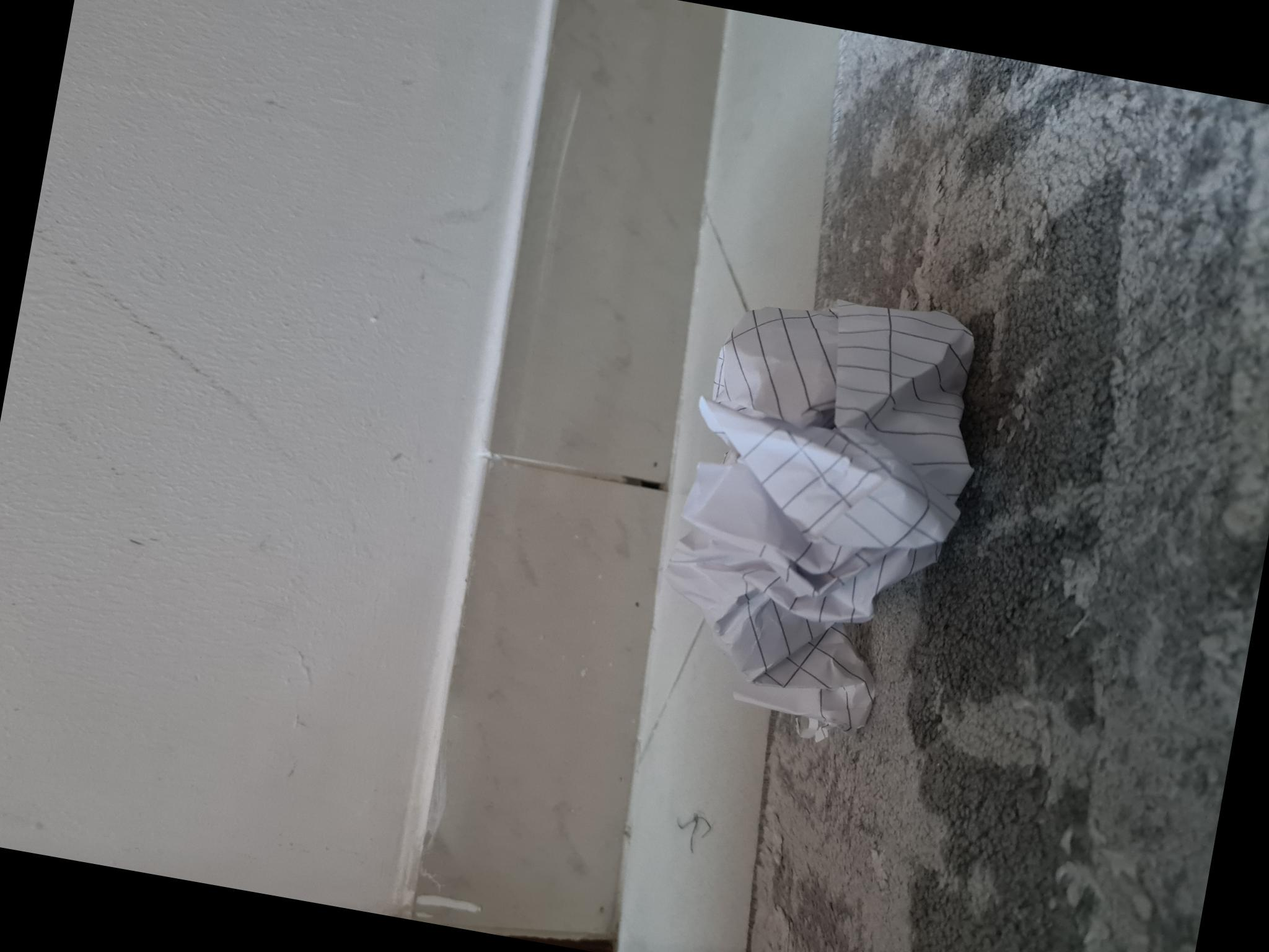Kertas: (188, 636, 625, 943)
